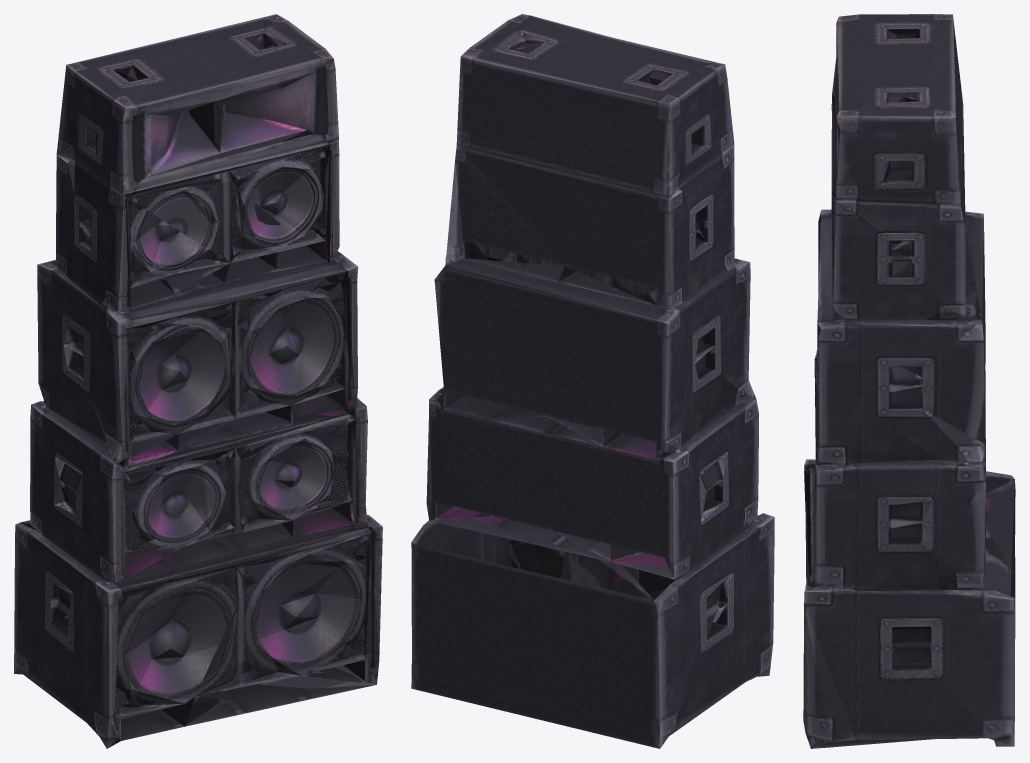
Rendered from speaker_updated.glb.
3 views of the same model, side by side, from view 1: azimuth 30°, elevation 25°; view 2: azimuth 150°, elevation 25°; view 3: azimuth 270°, elevation 25° (orthographic).
Visible parts, largest first — view 1: output_unwrapped; view 2: output_unwrapped; view 3: output_unwrapped.
Boxes of the visible parts, <box> form: output_unwrapped: <box>14,14,382,748</box>; output_unwrapped: <box>411,14,774,748</box>; output_unwrapped: <box>803,14,1015,748</box>.
Size of the model in its own units: 0.8805 by 1.9 by 0.5879.
Materials: 1 (1 with a texture image).
